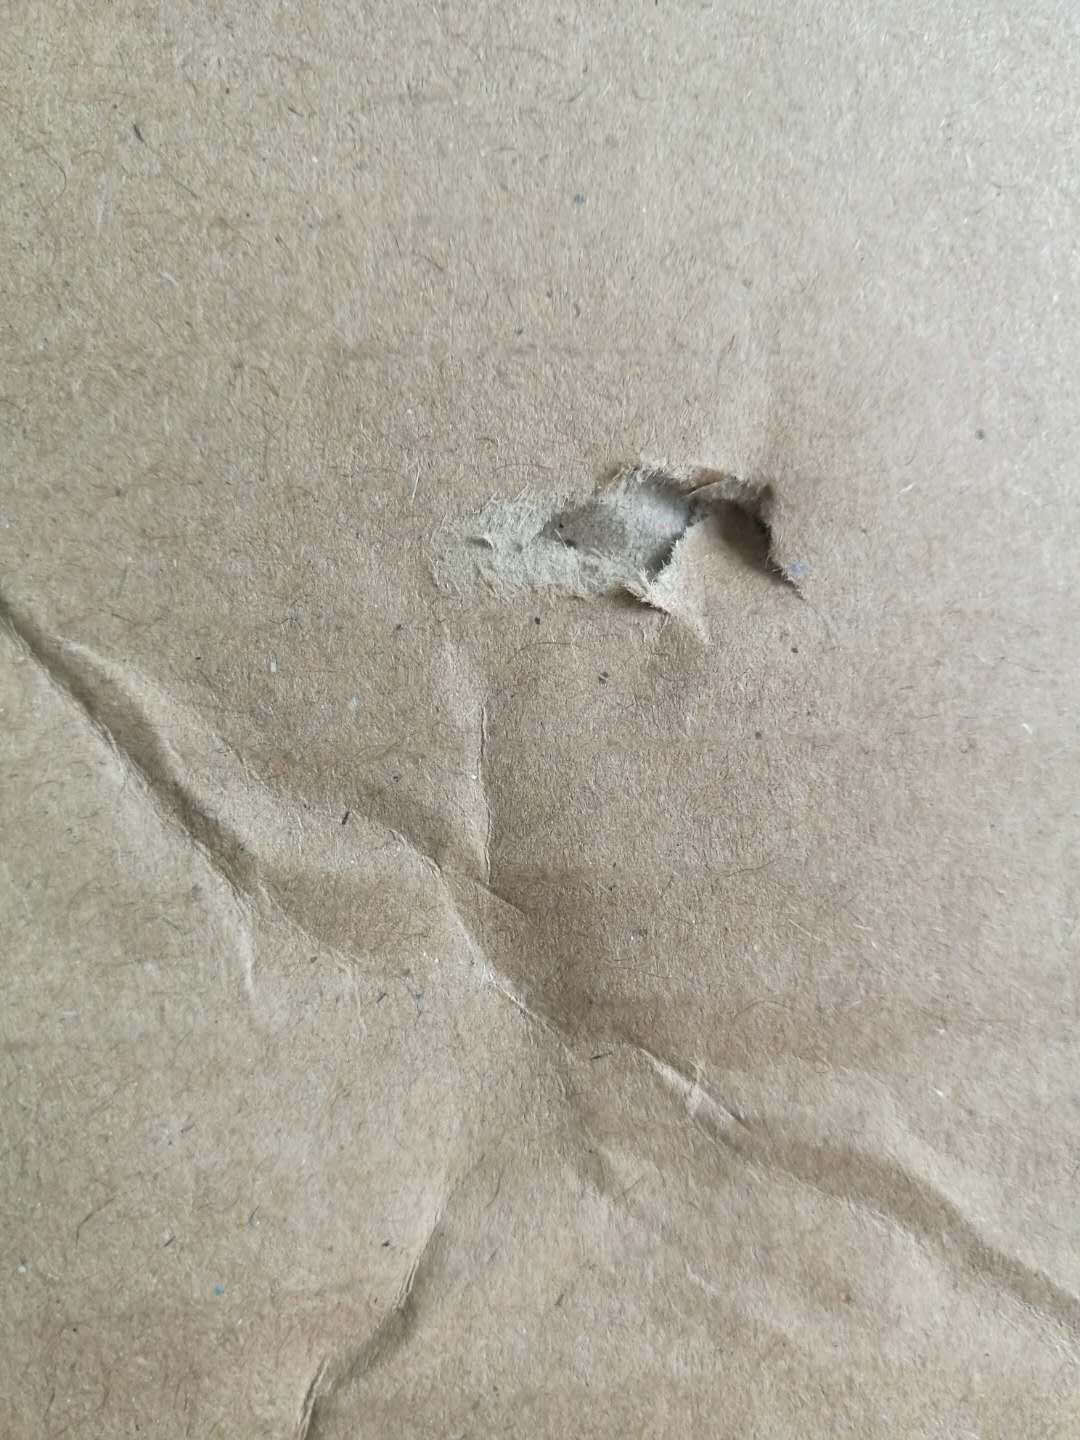defect: (2, 554, 1080, 1439), (402, 425, 855, 685)
